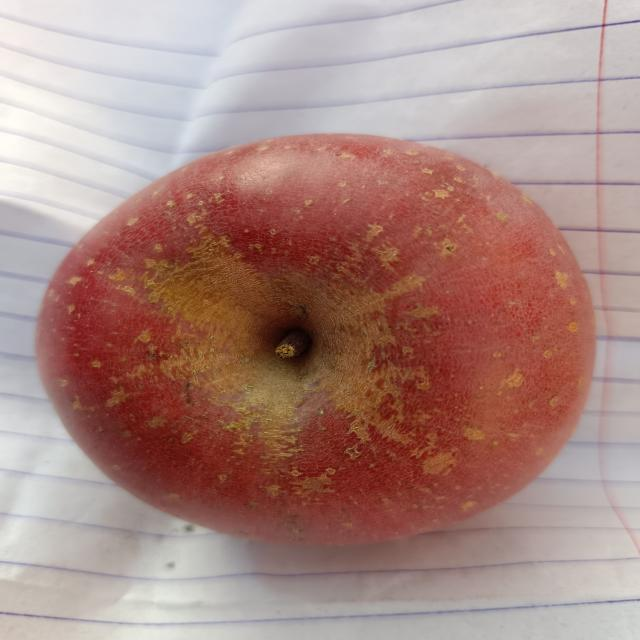Fresh Apple: (44, 147, 598, 523)
